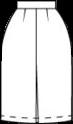Hemline: (1, 119, 72, 123)
Waistline: (16, 7, 55, 9), (16, 0, 56, 1)
